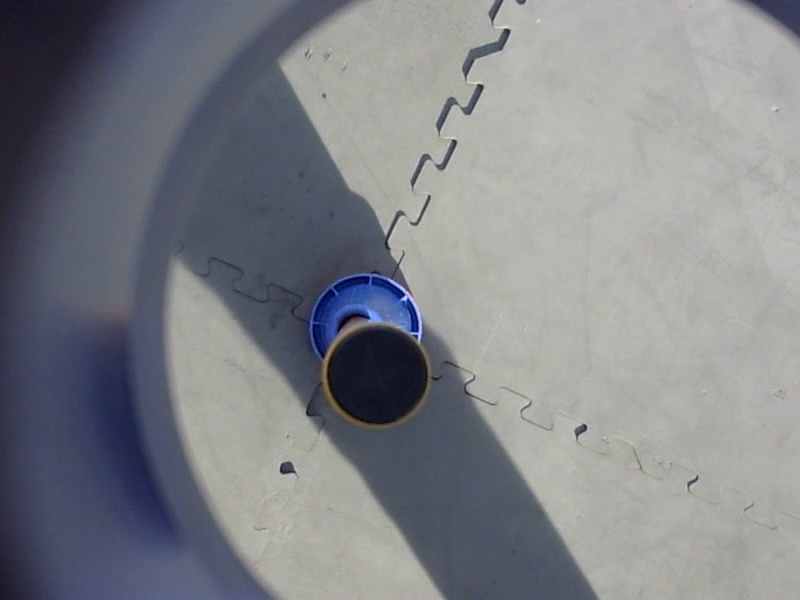tip: (314, 319, 436, 437)
